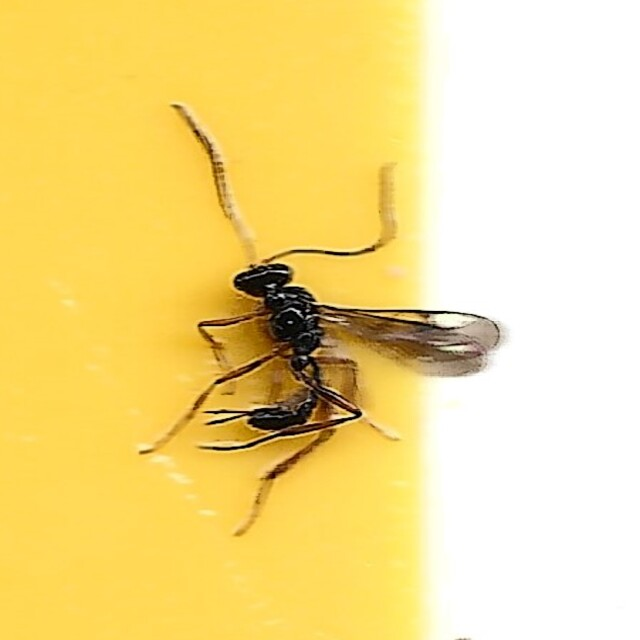Hymenoptera: (142, 101, 498, 539)
